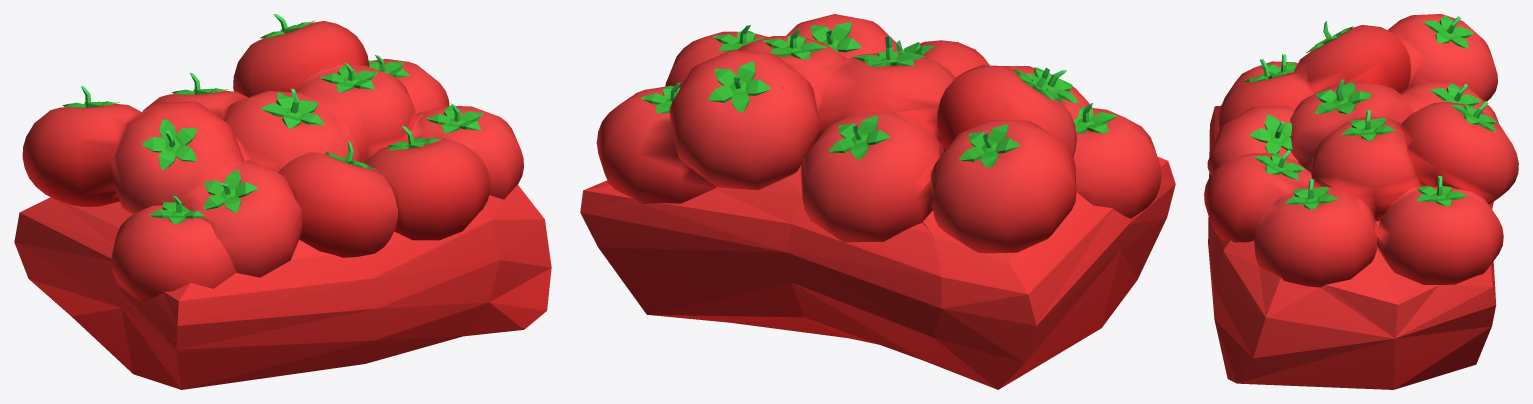
The model's file is tomato_pile.fbx.
3 renders of one model, left to right at view 1: azimuth 30°, elevation 25°; view 2: azimuth 150°, elevation 25°; view 3: azimuth 270°, elevation 25°, orthographic. The views are drawn at different scales.
Parts seen in each view (by area): view 1: tomato_pile; view 2: tomato_pile; view 3: tomato_pile.
Boxes of the visible parts, x1,y1,x2,y2 form: tomato_pile: [14, 14, 551, 389]; tomato_pile: [580, 14, 1175, 389]; tomato_pile: [1204, 14, 1518, 389].
Bounding box in the file's own units: 409 × 228 × 283.
